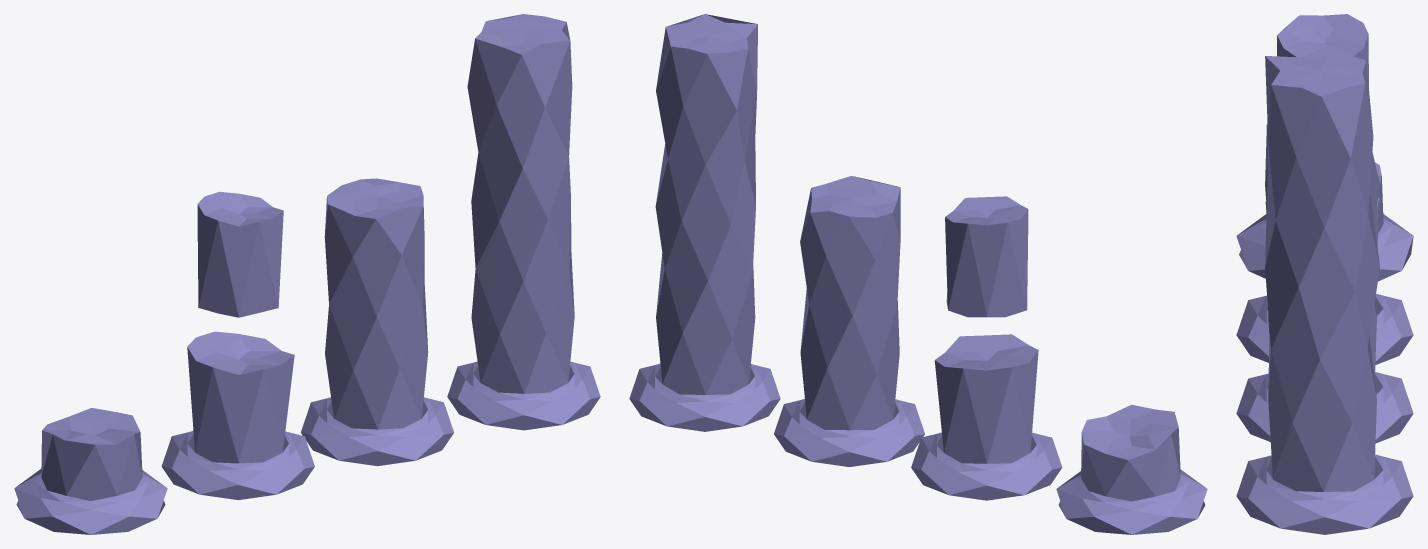
The model's file is ENV_pillar_Placeholder2.fbx.
3 views of the same model, side by side, from view 1: azimuth 30°, elevation 25°; view 2: azimuth 150°, elevation 25°; view 3: azimuth 270°, elevation 25° (orthographic). The views are drawn at different scales.
Parts seen in each view (by area): view 1: Column.006, Column, Column.003, Column.002; view 2: Column.006, Column, Column.003, Column.002; view 3: Column.006, Column.003, Column, Column.002.
Boxes of the visible parts, bbox=[...] form: Column.006: bbox=[447, 14, 600, 430]; Column: bbox=[300, 178, 453, 466]; Column.003: bbox=[161, 191, 314, 500]; Column.002: bbox=[14, 408, 167, 534]; Column.006: bbox=[629, 14, 780, 431]; Column: bbox=[774, 176, 924, 466]; Column.003: bbox=[911, 196, 1062, 500]; Column.002: bbox=[1056, 404, 1207, 534]; Column.006: bbox=[1236, 45, 1413, 534]; Column.003: bbox=[1236, 14, 1413, 364]; Column: bbox=[1236, 123, 1413, 443]; Column.002: bbox=[1236, 162, 1413, 281].
Size of the model in its own units: 150 by 637 by 398.
